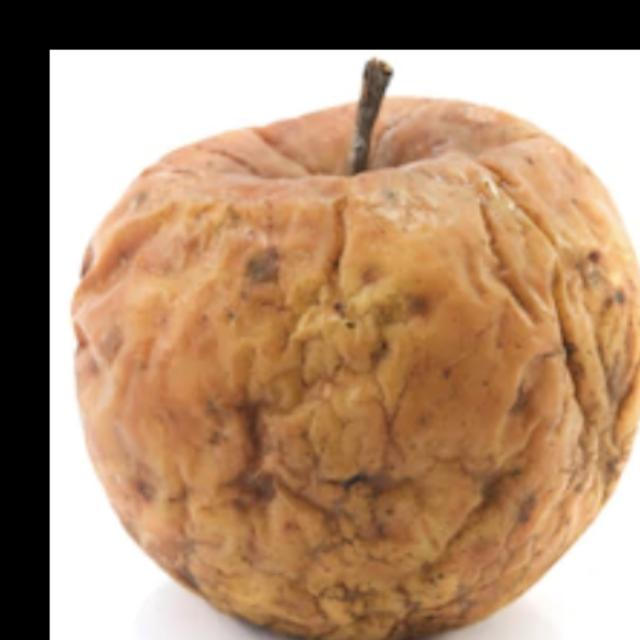Apel Tidak Segar: (65, 82, 640, 640)
